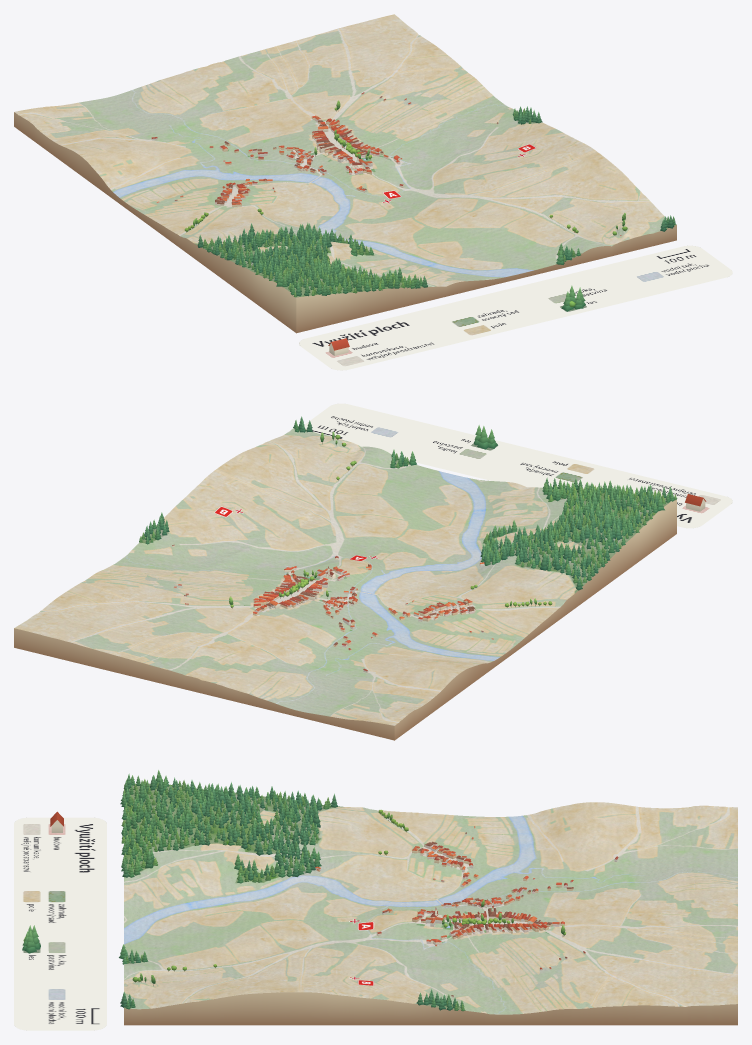
The model's file is Frymburk_sada4_otazka1_500m.glb.
3 views of the same model, one above another, from view 1: azimuth 30°, elevation 25°; view 2: azimuth 150°, elevation 25°; view 3: azimuth 270°, elevation 25° (orthographic). The views are drawn at different scales.
Visible parts, largest first — view 1: DMR_CO, legenda_panel, stromy_CO, budovy_CO, legenda_objekty; view 2: DMR_CO, legenda_panel, stromy_CO, budovy_CO, legenda_objekty; view 3: DMR_CO, legenda_panel, stromy_CO, budovy_CO, legenda_objekty.
Boxes of the visible parts, <box> form: DMR_CO: <box>14,14,676,333</box>; legenda_panel: <box>299,245,732,370</box>; stromy_CO: <box>184,100,675,297</box>; budovy_CO: <box>151,92,621,236</box>; legenda_objekty: <box>328,285,585,355</box>; DMR_CO: <box>14,426,676,740</box>; legenda_panel: <box>304,403,732,528</box>; stromy_CO: <box>139,416,677,608</box>; budovy_CO: <box>172,443,494,672</box>; legenda_objekty: <box>474,425,706,511</box>; DMR_CO: <box>124,783,737,1025</box>; legenda_panel: <box>14,817,106,1030</box>; stromy_CO: <box>119,770,565,1011</box>; budovy_CO: <box>315,826,618,997</box>; legenda_objekty: <box>22,811,63,953</box>.
Bounding box in the file's own units: 1490 × 177 × 2140.
Materials: 10 (4 with a texture image).
